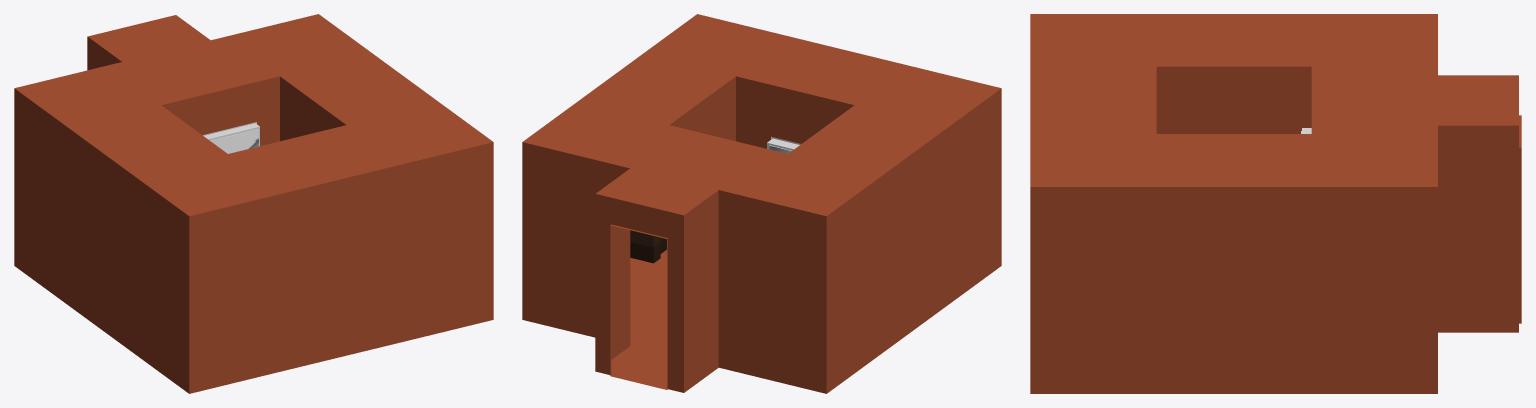
File: room_5_1.glb
3 renders of one model, left to right at view 1: azimuth 30°, elevation 25°; view 2: azimuth 150°, elevation 25°; view 3: azimuth 270°, elevation 25°, orthographic. The views are drawn at different scales.
Parts seen in each view (by area): view 1: komnata_5_1; view 2: komnata_5_1, cumnata_5_1_item; view 3: komnata_5_1.
Boxes of the visible parts, x1,y1,x2,y2 form: komnata_5_1: [14, 14, 493, 393]; komnata_5_1: [522, 14, 1001, 393]; cumnata_5_1_item: [630, 230, 666, 263]; komnata_5_1: [1030, 14, 1521, 393].
Size of what is drawn, in the model's own units: 4.47 by 2.49 by 5.36.
22 materials, 3 textured.
